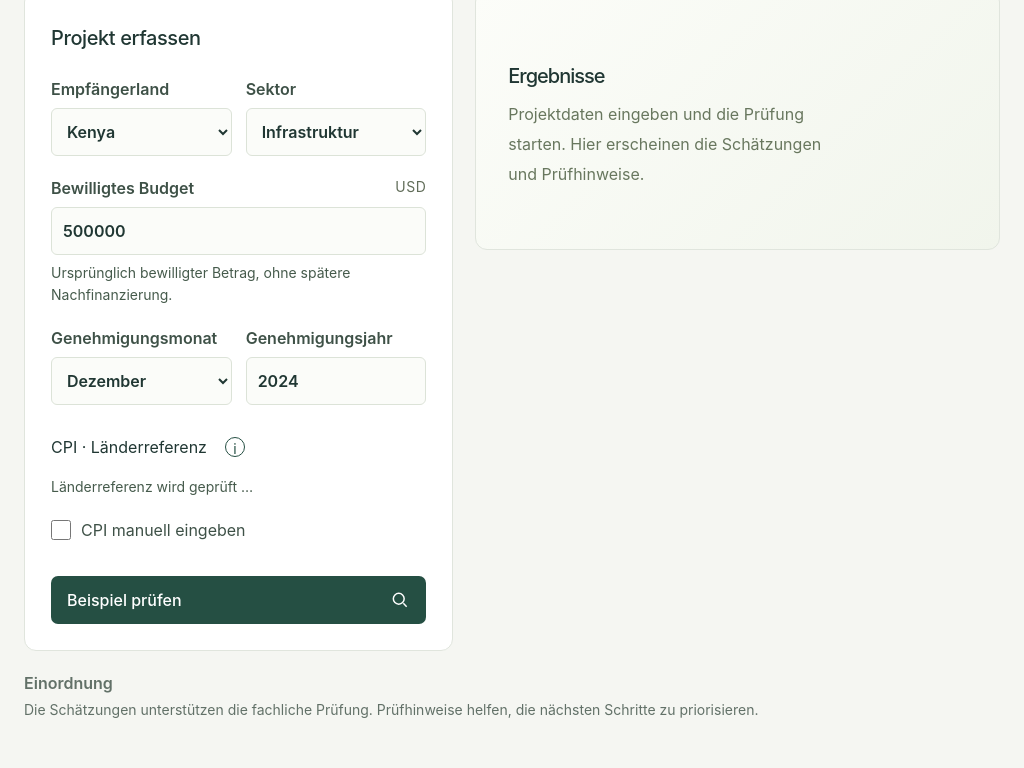
Scenario: project screening › surfaces prediction errors and re-enables submission
(page scrolled)
Check: the heading "Projekt erfassen" is shown, box 51,23 -> 201,53
Click the button "Beispiel prüfen": (124, 600) 51,576 -> 426,624
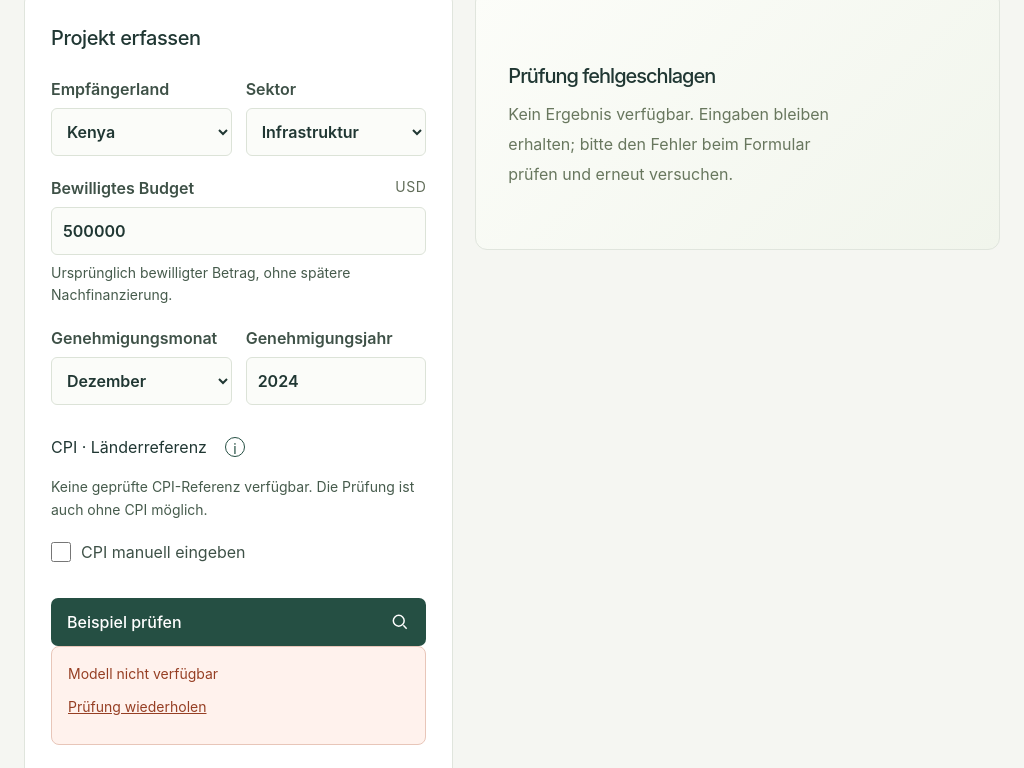
Check: the button "Beispiel prüfen" is enabled, box 51,598 -> 426,646
Check: the message "Modell nicht verfügbar Prüfung wiederholen" is shown, box 51,646 -> 426,745
